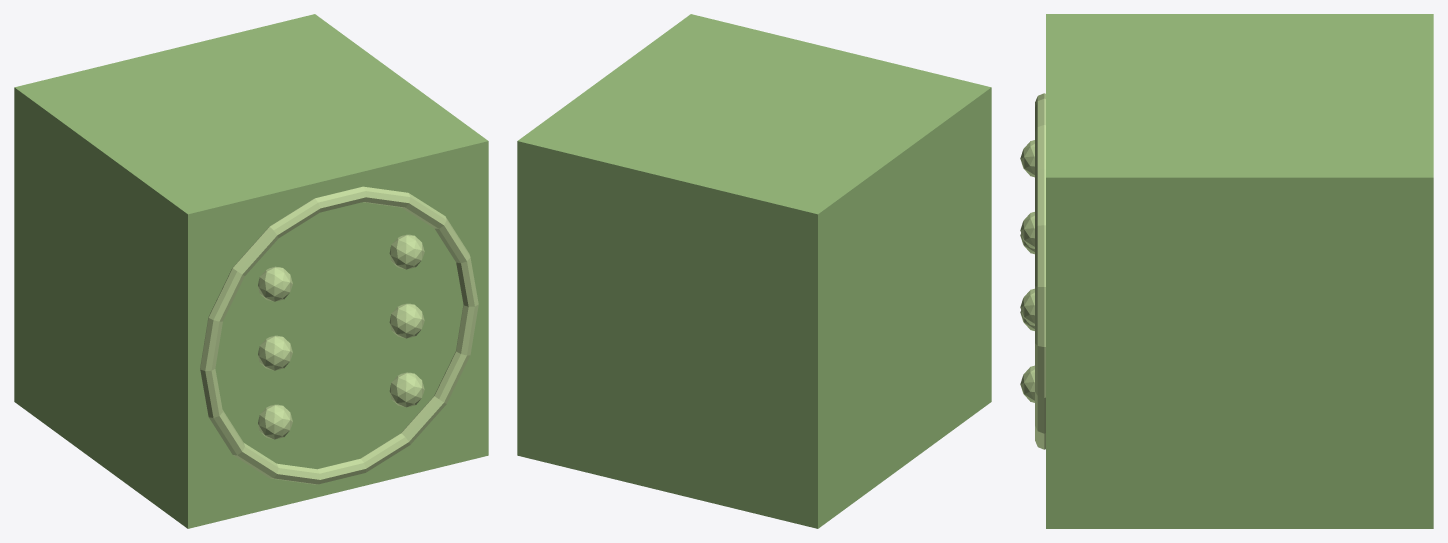
Rendered from glueck.glb.
3 views of the same model, side by side, from view 1: azimuth 30°, elevation 25°; view 2: azimuth 150°, elevation 25°; view 3: azimuth 270°, elevation 25° (orthographic). The views are drawn at different scales.
Visible parts, largest first — view 1: world; view 2: world; view 3: world.
Boxes of the visible parts, x1=… form: world: x1=14, y1=14, x2=488, y2=528; world: x1=517, y1=14, x2=991, y2=528; world: x1=1020, y1=14, x2=1433, y2=528.
Size of the model in its own units: 1.05 by 1.05 by 1.12.
